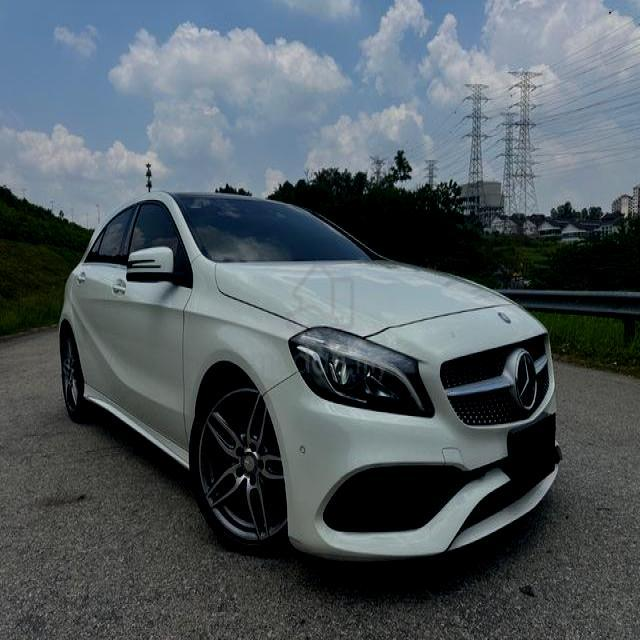PeroduaAtiva: (56, 188, 563, 563)
